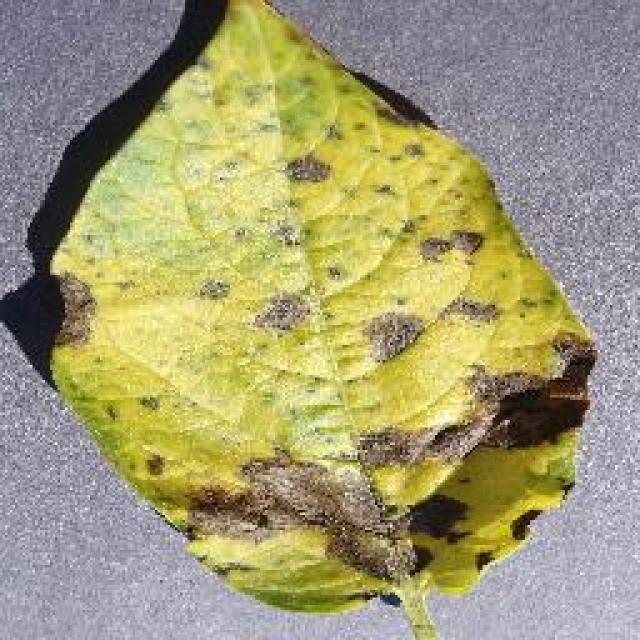early_blight: (40, 0, 600, 630)
